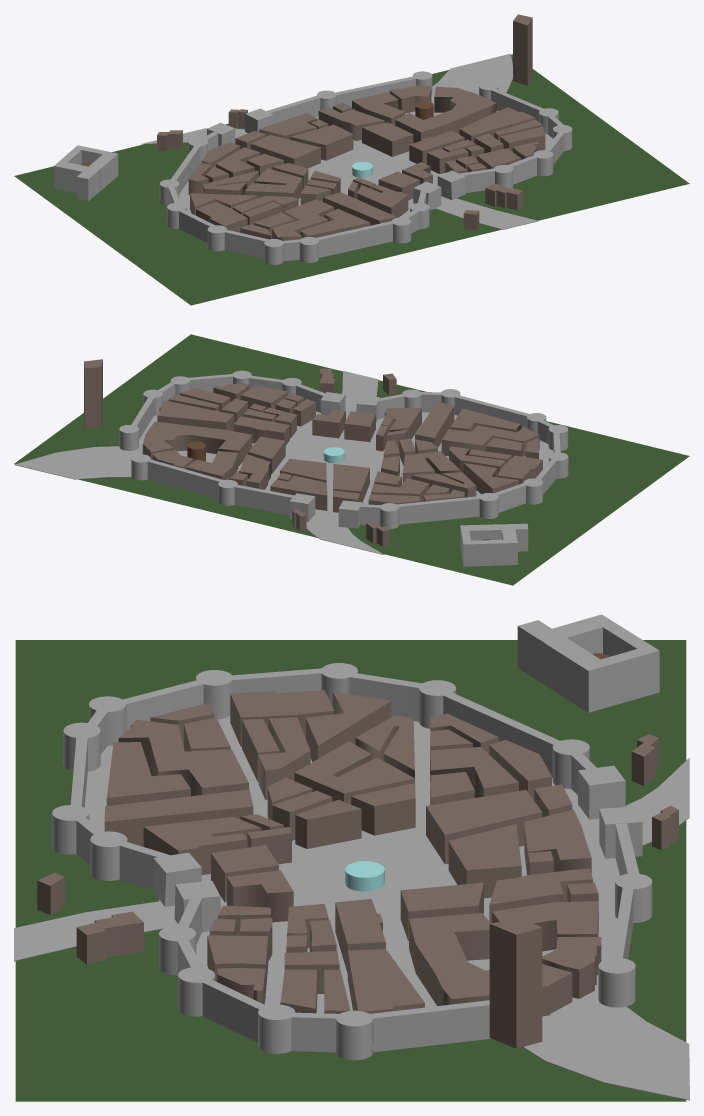
The model's file is talay_blocking.fbx.
3 renders of one model, top to bottom at view 1: azimuth 30°, elevation 25°; view 2: azimuth 150°, elevation 25°; view 3: azimuth 270°, elevation 25°, orthographic. The views are drawn at different scales.
Visible parts, largest first — view 1: pCube67; view 2: pCube67; view 3: pCube67.
Part boxes in pixels (x1,y1,x2,y2): pCube67: [14, 14, 689, 305]; pCube67: [14, 334, 689, 585]; pCube67: [14, 614, 689, 1101].
Size of the model in its own units: 23274 by 3400 by 14410.
